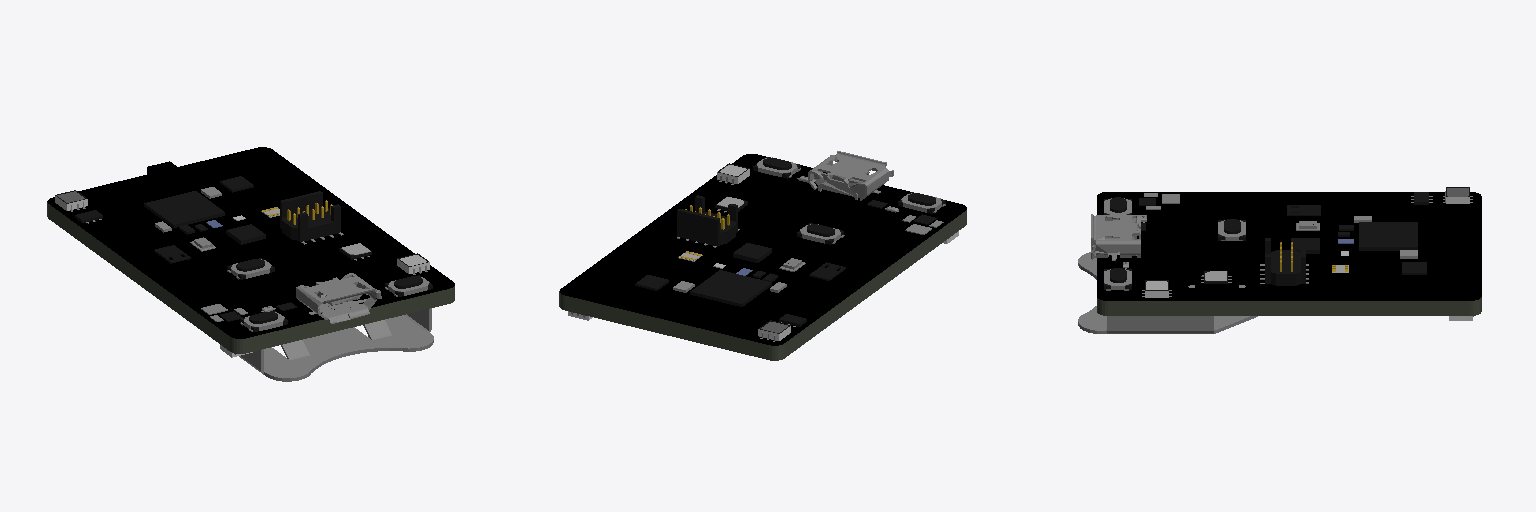
File: TBSense_Rev_Lowpoly_2.obj
3 renders of one model, left to right at view 1: azimuth 30°, elevation 25°; view 2: azimuth 150°, elevation 25°; view 3: azimuth 270°, elevation 25°, orthographic.
Parts seen in each view (by area): view 1: ThunderboardSense_LowPoly_009 newboardbooleaned_pCube282, ThunderboardSense_LowPoly_009 ThunderboardSense_LowPoly_007_batt, ThunderboardSense_LowPoly_009 ThunderboardSense_LowPoly_007_Micr, ThunderboardSense_LowPoly_009 ThunderboardSense_LowPoly_007_Pins, ThunderboardSense_LowPoly_009 EFR32_06, ThunderboardSense_LowPoly_009 TBS_newparts2_ThunderboardSense_Lo, ThunderboardSense_LowPoly_009 ThunderboardSense_LowPoly_007_EFR3; view 2: ThunderboardSense_LowPoly_009 newboardbooleaned_pCube282, ThunderboardSense_LowPoly_009 ThunderboardSense_LowPoly_007_Micr, ThunderboardSense_LowPoly_009 ThunderboardSense_LowPoly_007_Pins, ThunderboardSense_LowPoly_009 EFR32_06, ThunderboardSense_LowPoly_009 TBS_newparts2_ThunderboardSense_Lo, ThunderboardSense_LowPoly_009 ThunderboardSense_LowPoly_007_EFR3; view 3: ThunderboardSense_LowPoly_009 newboardbooleaned_pCube282, ThunderboardSense_LowPoly_009 ThunderboardSense_LowPoly_007_batt, ThunderboardSense_LowPoly_009 ThunderboardSense_LowPoly_007_Micr, ThunderboardSense_LowPoly_009 EFR32_06, ThunderboardSense_LowPoly_009 ThunderboardSense_LowPoly_007_Pins, ThunderboardSense_LowPoly_009 TBS_newparts2_ThunderboardSense_Lo, ThunderboardSense_LowPoly_009 ThunderboardSense_LowPoly_007_EFR3.
Boxes of the visible parts, x1,y1,x2,y2 form: ThunderboardSense_LowPoly_009 newboardbooleaned_pCube282: [47, 147, 454, 353]; ThunderboardSense_LowPoly_009 ThunderboardSense_LowPoly_007_batt: [239, 308, 433, 381]; ThunderboardSense_LowPoly_009 ThunderboardSense_LowPoly_007_Micr: [296, 273, 381, 323]; ThunderboardSense_LowPoly_009 ThunderboardSense_LowPoly_007_Pins: [280, 191, 340, 241]; ThunderboardSense_LowPoly_009 EFR32_06: [144, 191, 224, 227]; ThunderboardSense_LowPoly_009 TBS_newparts2_ThunderboardSense_Lo: [55, 190, 429, 357]; ThunderboardSense_LowPoly_009 ThunderboardSense_LowPoly_007_EFR3: [154, 220, 265, 263]; ThunderboardSense_LowPoly_009 newboardbooleaned_pCube282: [559, 154, 966, 360]; ThunderboardSense_LowPoly_009 ThunderboardSense_LowPoly_007_Micr: [808, 151, 893, 200]; ThunderboardSense_LowPoly_009 ThunderboardSense_LowPoly_007_Pins: [677, 195, 737, 246]; ThunderboardSense_LowPoly_009 EFR32_06: [690, 270, 771, 306]; ThunderboardSense_LowPoly_009 TBS_newparts2_ThunderboardSense_Lo: [568, 163, 958, 341]; ThunderboardSense_LowPoly_009 ThunderboardSense_LowPoly_007_EFR3: [685, 243, 845, 280]; ThunderboardSense_LowPoly_009 newboardbooleaned_pCube282: [1097, 192, 1481, 315]; ThunderboardSense_LowPoly_009 ThunderboardSense_LowPoly_007_batt: [1078, 252, 1257, 333]; ThunderboardSense_LowPoly_009 ThunderboardSense_LowPoly_007_Micr: [1091, 214, 1140, 260]; ThunderboardSense_LowPoly_009 EFR32_06: [1359, 222, 1417, 250]; ThunderboardSense_LowPoly_009 ThunderboardSense_LowPoly_007_Pins: [1265, 238, 1305, 285]; ThunderboardSense_LowPoly_009 TBS_newparts2_ThunderboardSense_Lo: [1142, 187, 1473, 320]; ThunderboardSense_LowPoly_009 ThunderboardSense_LowPoly_007_EFR3: [1287, 205, 1353, 271].
Bounding box in the file's own units: 6.9 × 2.15 × 10.79.